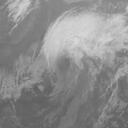cyclone: (43, 16, 102, 76)
